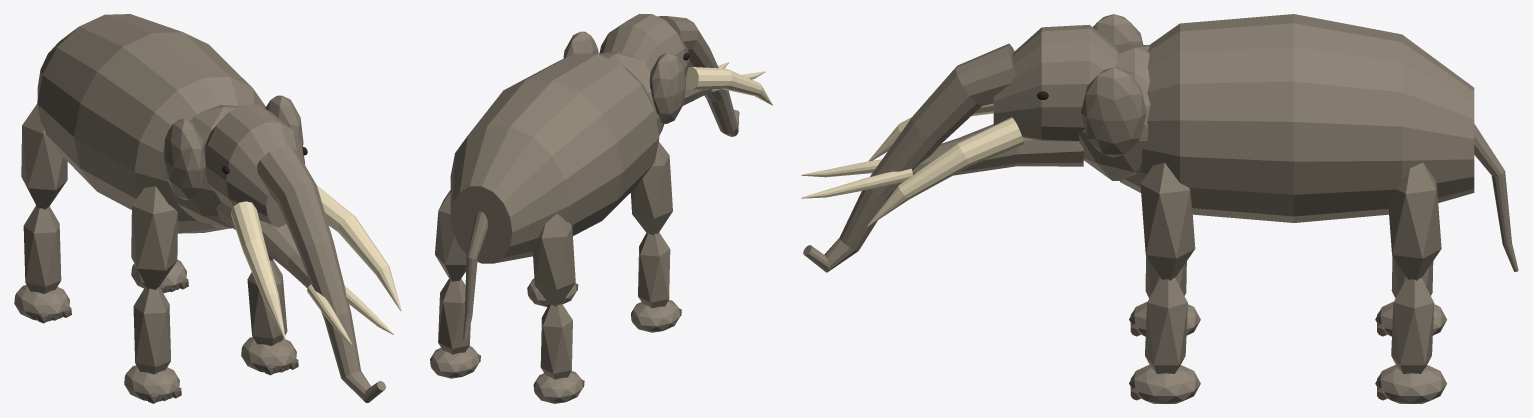
3 views of the same model, side by side, from view 1: azimuth 30°, elevation 25°; view 2: azimuth 150°, elevation 25°; view 3: azimuth 270°, elevation 25° (orthographic). The views are drawn at different scales.
Parts seen in each view (by area): view 1: surface_gray_brown_skin, surface_ivory_tusks, surface_muted_nails; view 2: surface_gray_brown_skin, surface_ivory_tusks; view 3: surface_gray_brown_skin, surface_ivory_tusks.
Part boxes in pixels (<box>): surface_gray_brown_skin: <box>14,14,385,402</box>; surface_ivory_tusks: <box>230,185,401,344</box>; surface_muted_nails: <box>37,278,298,403</box>; surface_gray_brown_skin: <box>430,14,739,403</box>; surface_ivory_tusks: <box>685,62,772,105</box>; surface_gray_brown_skin: <box>803,14,1518,403</box>; surface_ivory_tusks: <box>801,103,1023,226</box>.
Size of the model in its own units: 0.3509 by 0.635 by 1.19.
